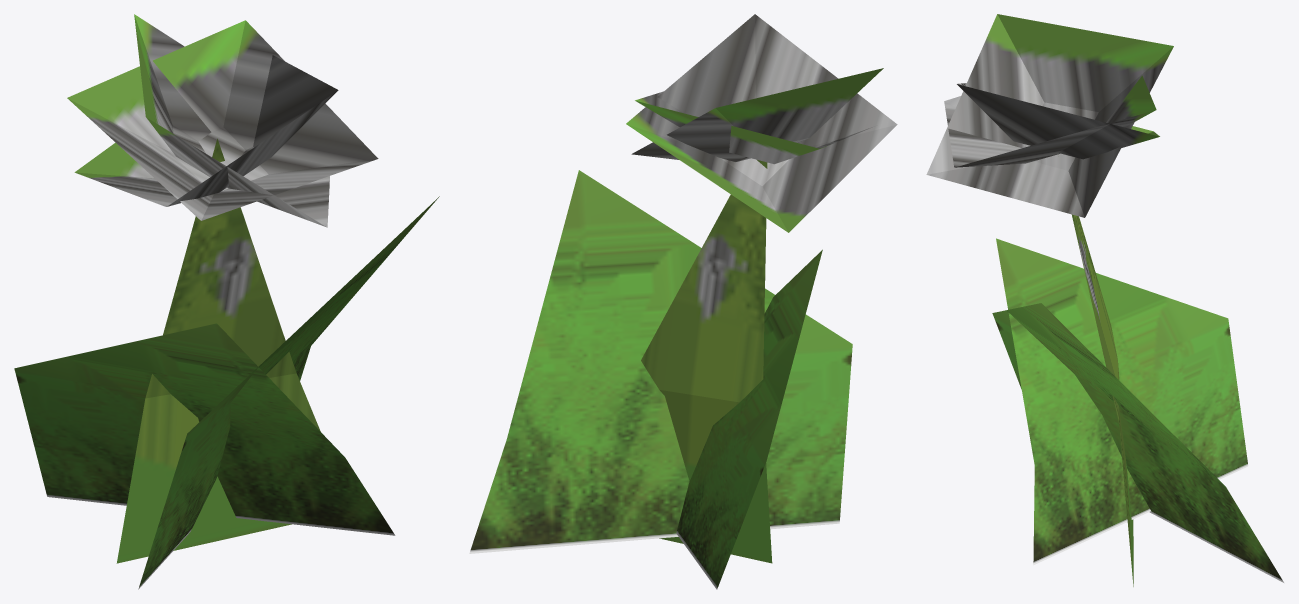
Rendered from Fleur_03A.fbx.
The picture shows the model from 3 angles, left to right: view 1: azimuth 30°, elevation 25°; view 2: azimuth 150°, elevation 25°; view 3: azimuth 270°, elevation 25°; orthographic projection. The views are drawn at different scales.
Visible parts, largest first — view 1: Fleur_03A; view 2: Fleur_03A; view 3: Fleur_03A.
Part boxes in pixels (left/top/right/bottom): Fleur_03A: left=14, top=14, right=439, bottom=589; Fleur_03A: left=469, top=14, right=897, bottom=589; Fleur_03A: left=926, top=14, right=1283, bottom=586.
Size of the model in its own units: 0.4788 by 0.7463 by 0.5261.
